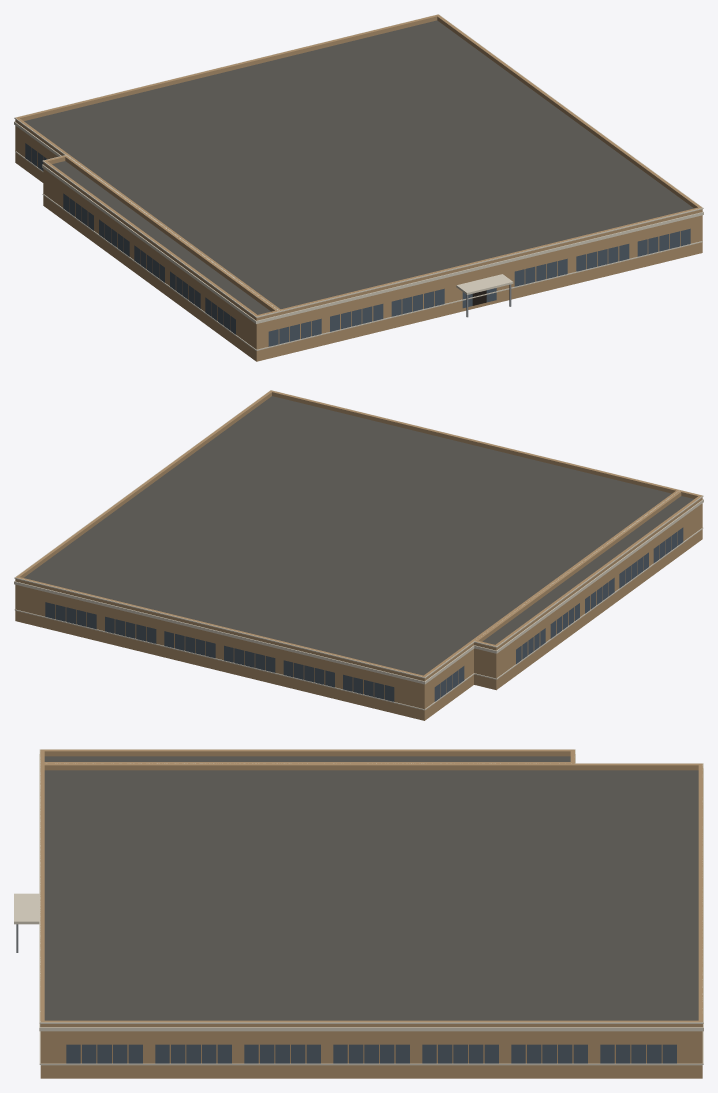
File: school-part-of-complex-bo500051738.glb
3 renders of one model, top to bottom at view 1: azimuth 30°, elevation 25°; view 2: azimuth 150°, elevation 25°; view 3: azimuth 270°, elevation 25°, orthographic. The views are drawn at different scales.
Visible parts, largest first — view 1: school_part_of_complex_bo500051738; view 2: school_part_of_complex_bo500051738; view 3: school_part_of_complex_bo500051738.
Boxes of the visible parts, bbox=[...] form: school_part_of_complex_bo500051738: bbox=[14, 14, 703, 361]; school_part_of_complex_bo500051738: bbox=[14, 390, 703, 720]; school_part_of_complex_bo500051738: bbox=[14, 749, 703, 1078].
Bounding box in the file's own units: 58.24 × 5.6 × 62.02.
